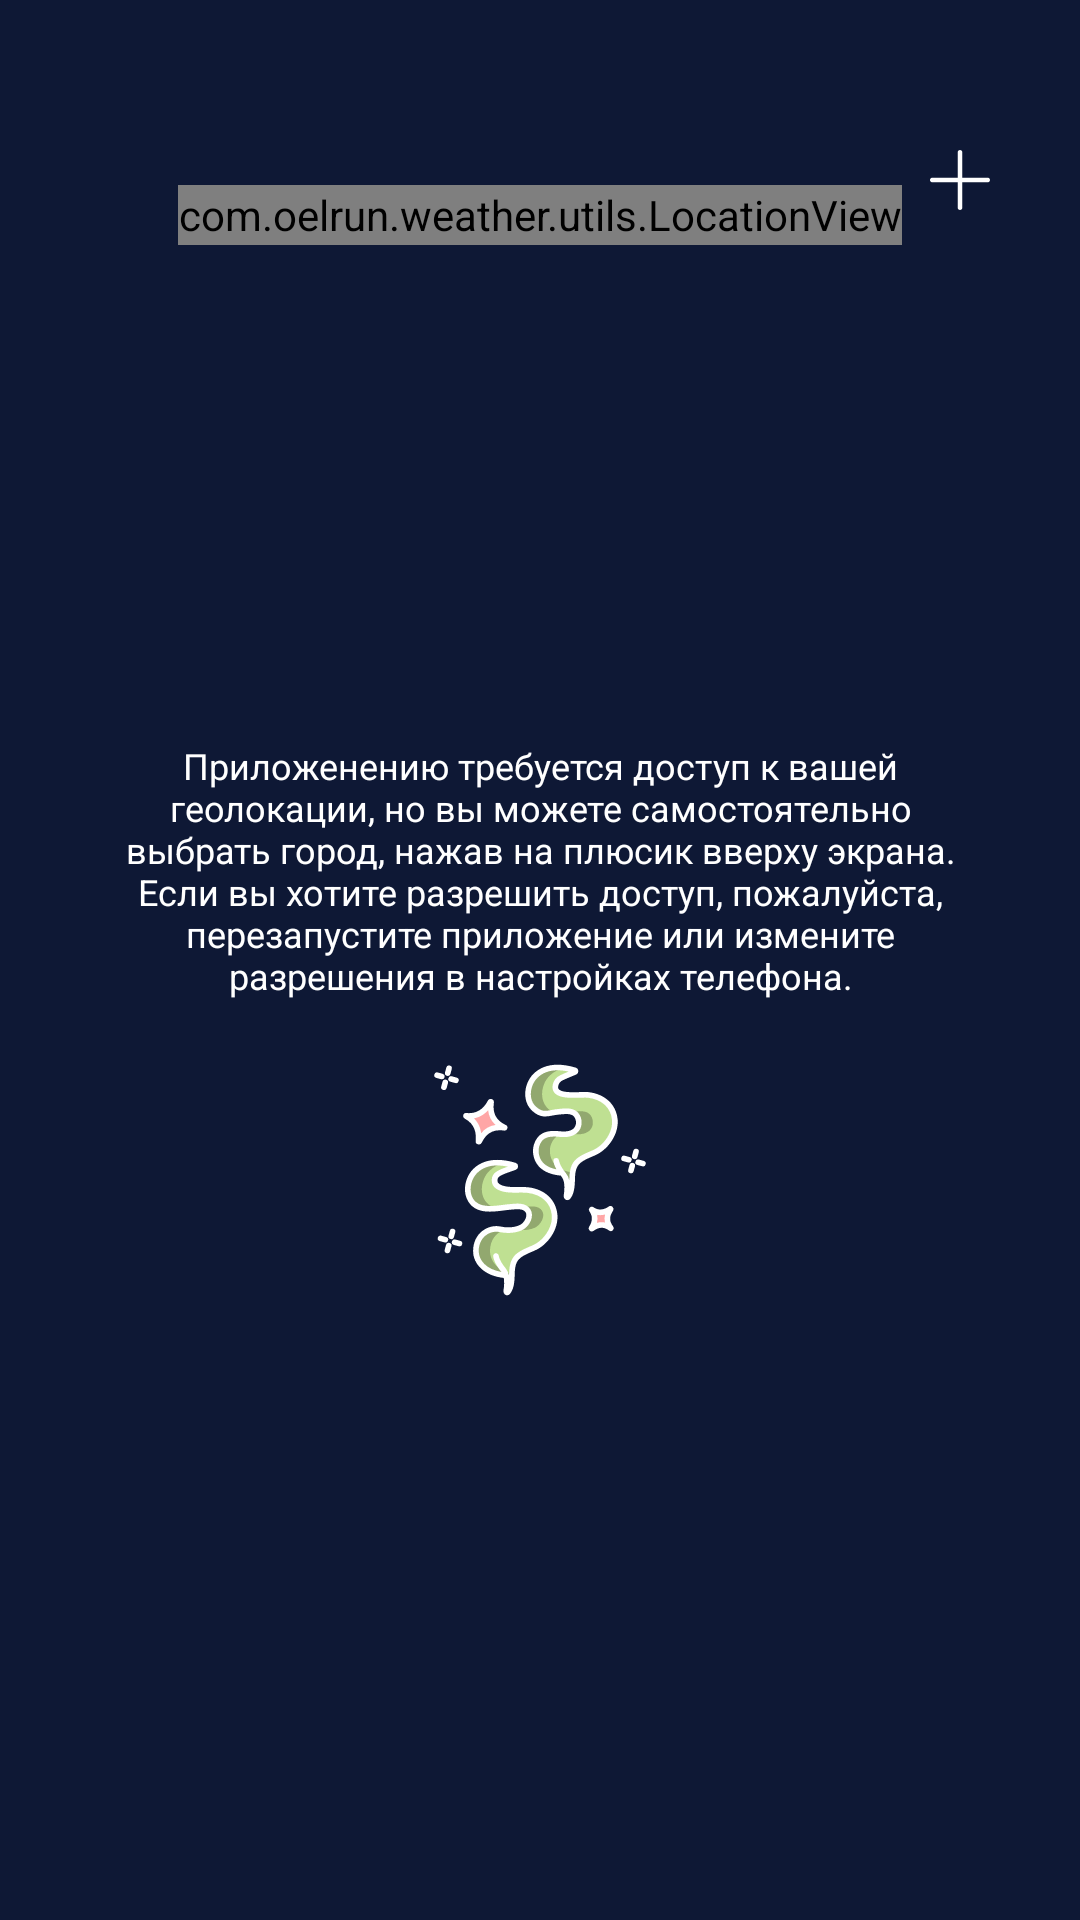

Point at icon controls on the screen. Image size 1080*1920, points as point (x, y).
add: point (960, 180)
smoke: point (540, 1180)
